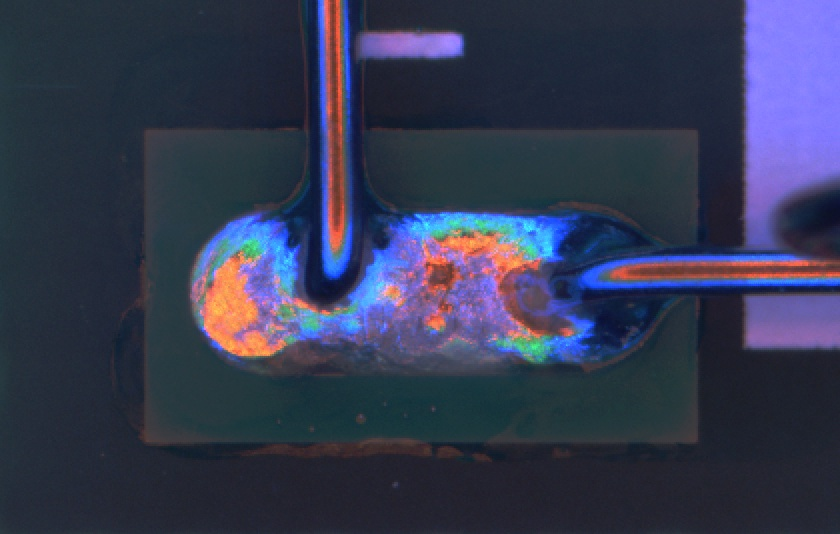spring: (554, 236, 840, 307), (305, 1, 363, 303)
spring_pin: (183, 197, 677, 369)
